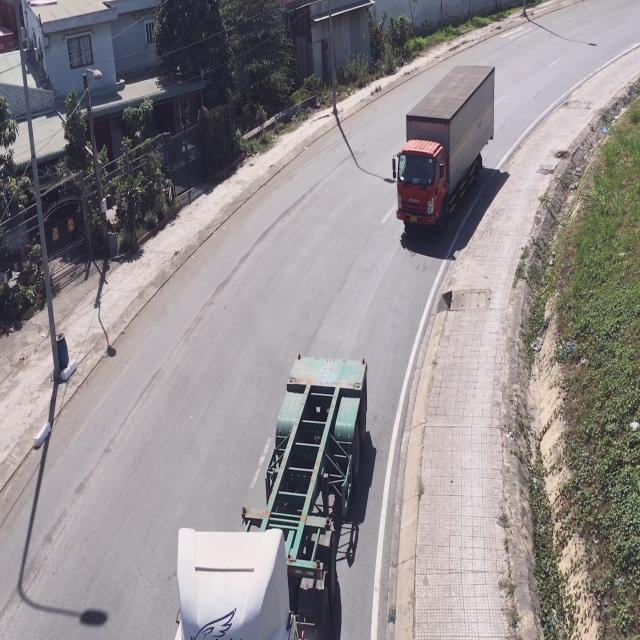truck: (174, 353, 368, 640), (392, 62, 496, 232)
